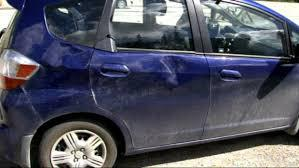doorouter-dent: (101, 49, 209, 149), (210, 55, 283, 132)
quaterpanel-dent: (19, 27, 89, 109)
